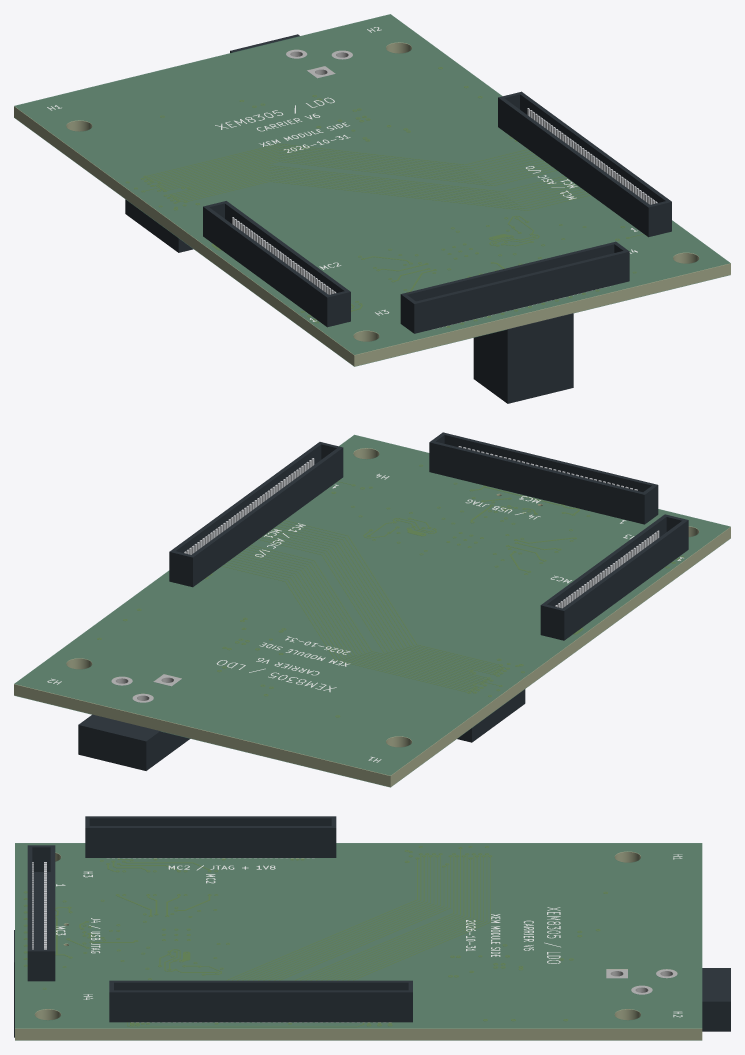
File: direct-ldo-carrier-v6.glb
3 renders of one model, top to bottom at view 1: azimuth 30°, elevation 25°; view 2: azimuth 150°, elevation 25°; view 3: azimuth 270°, elevation 25°, orthographic.
Visible parts, largest first — view 1: PCB_Surface_6, PCB_Surface_8, MC3, MC1, MC2, J4, PCB_Surface_4, J1, PCB_Surface_7, PCB_Surface_2; view 2: PCB_Surface_6, PCB_Surface_8, MC3, MC1, MC2, J3, PCB_Surface_4, PCB_Surface_1, J1, PCB_Surface_7; view 3: PCB_Surface_6, PCB_Surface_8, MC1, MC2, MC3, J3, PCB_Surface_4, PCB_Surface_2, PCB_Surface_1, PCB_Surface_7.
Part boxes in pixels (x1,y1,x2,y2): PCB_Surface_6: [14, 14, 730, 354]; PCB_Surface_8: [14, 15, 730, 366]; MC3: [400, 241, 629, 333]; MC1: [498, 91, 671, 237]; MC2: [203, 201, 350, 327]; J4: [473, 313, 573, 403]; PCB_Surface_4: [47, 27, 637, 321]; J1: [125, 199, 193, 252]; PCB_Surface_7: [14, 117, 730, 366]; PCB_Surface_2: [286, 49, 610, 329]; PCB_Surface_6: [14, 434, 730, 775]; PCB_Surface_8: [14, 436, 730, 787]; MC3: [429, 432, 658, 524]; MC1: [169, 442, 343, 587]; MC2: [540, 514, 688, 640]; J3: [78, 714, 189, 770]; PCB_Surface_4: [47, 473, 683, 762]; PCB_Surface_1: [98, 465, 677, 716]; J1: [457, 689, 525, 742]; PCB_Surface_7: [14, 538, 730, 787]; PCB_Surface_6: [15, 843, 702, 1028]; PCB_Surface_8: [15, 844, 702, 1040]; MC1: [109, 980, 412, 1022]; MC2: [85, 816, 336, 857]; MC3: [27, 845, 55, 981]; J3: [702, 968, 730, 1031]; PCB_Surface_4: [56, 854, 682, 1017]; PCB_Surface_2: [107, 858, 677, 1022]; PCB_Surface_1: [24, 846, 607, 1025]; PCB_Surface_7: [15, 1040, 701, 1040].
Size of the model in its own units: 0.053 by 0.0156 by 0.0866.
